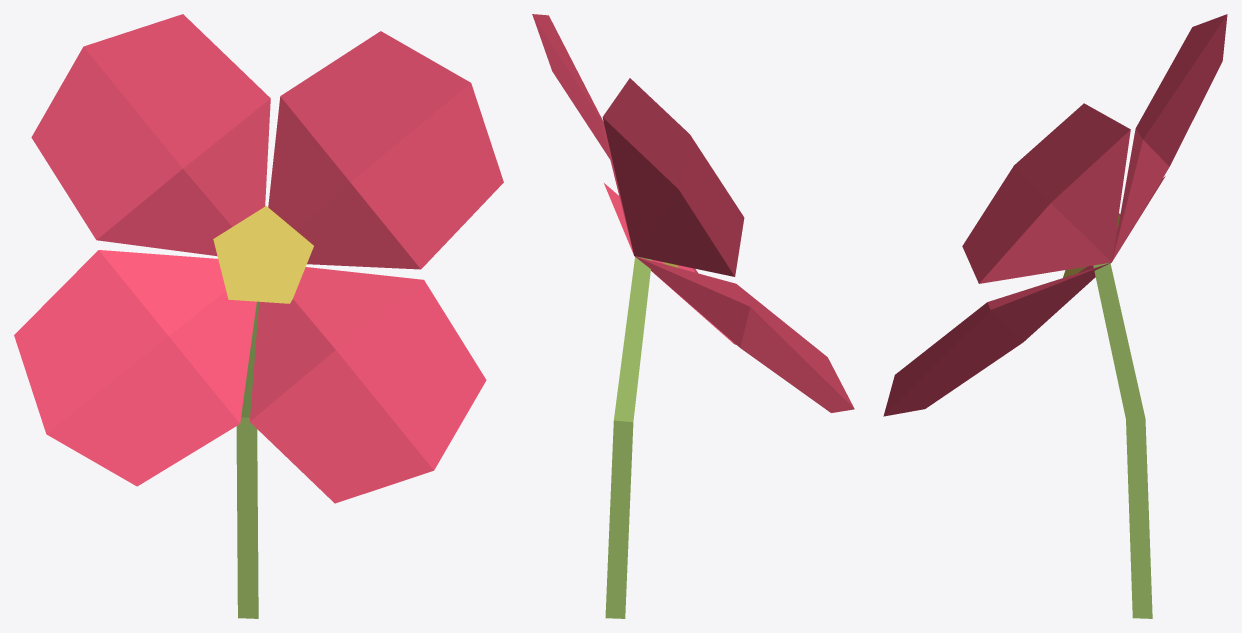
File: Flower_c_OneS_07.fbx
3 renders of one model, left to right at view 1: azimuth 30°, elevation 25°; view 2: azimuth 150°, elevation 25°; view 3: azimuth 270°, elevation 25°, orthographic. The views are drawn at different scales.
Visible parts, largest first — view 1: Flower_c_OneS_07; view 2: Flower_c_OneS_07; view 3: Flower_c_OneS_07.
Boxes of the visible parts, x1,y1,x2,y2 form: Flower_c_OneS_07: (14,14,503,618); Flower_c_OneS_07: (532,14,854,618); Flower_c_OneS_07: (883,14,1227,618).
Bounding box in the file's own units: 26.19 × 38.11 × 20.84.
